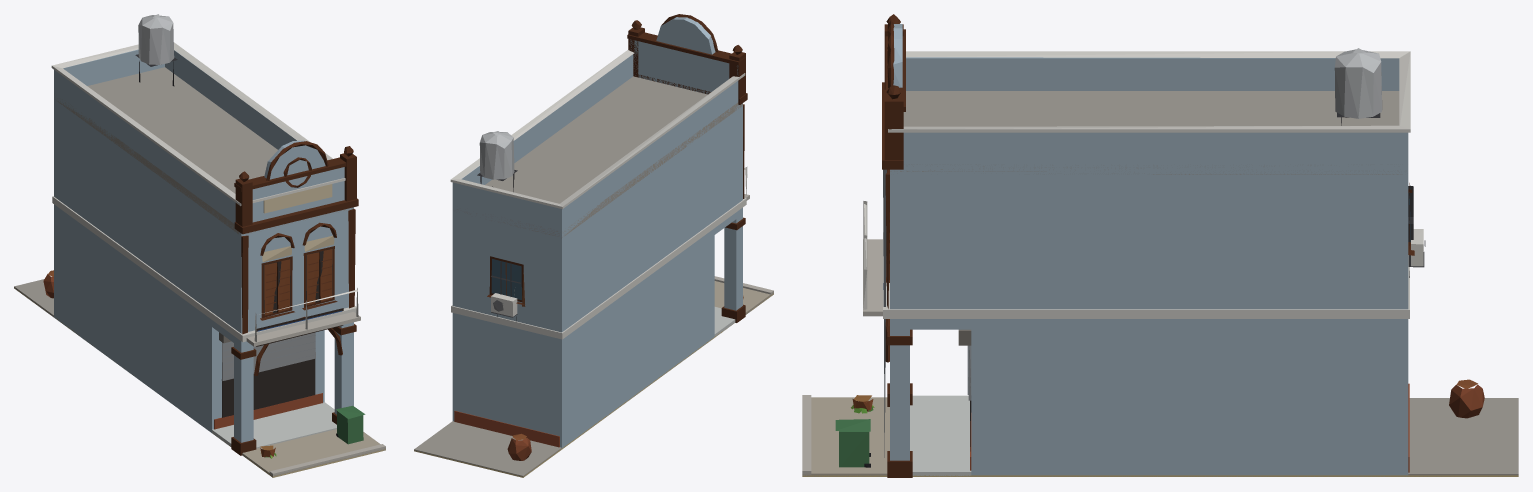
File: bay1_mid.glb
3 renders of one model, left to right at view 1: azimuth 30°, elevation 25°; view 2: azimuth 150°, elevation 25°; view 3: azimuth 270°, elevation 25°, orthographic. The views are drawn at different scales.
Parts seen in each view (by area): view 1: body, windows; view 2: body, windows; view 3: body.
Part boxes in pixels (x1,y1,x2,y2): body: (14, 14, 385, 477); windows: (222, 248, 332, 417); body: (414, 14, 773, 477); windows: (491, 259, 521, 300); body: (802, 14, 1518, 477).
Size of the model in its own units: 4.12 by 10.42 by 15.9.
